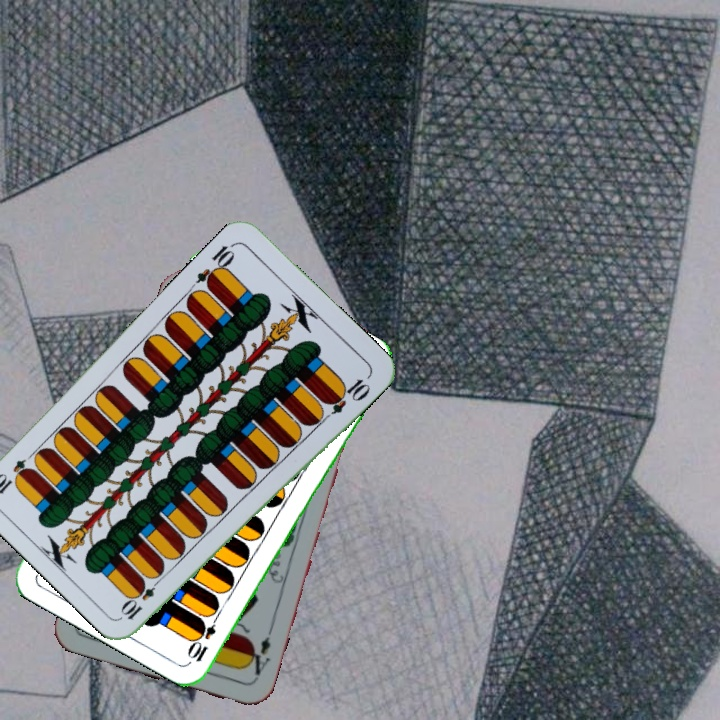E10: (192, 239, 238, 292), (118, 572, 165, 623), (185, 608, 223, 665)
EA: (243, 632, 273, 682)
